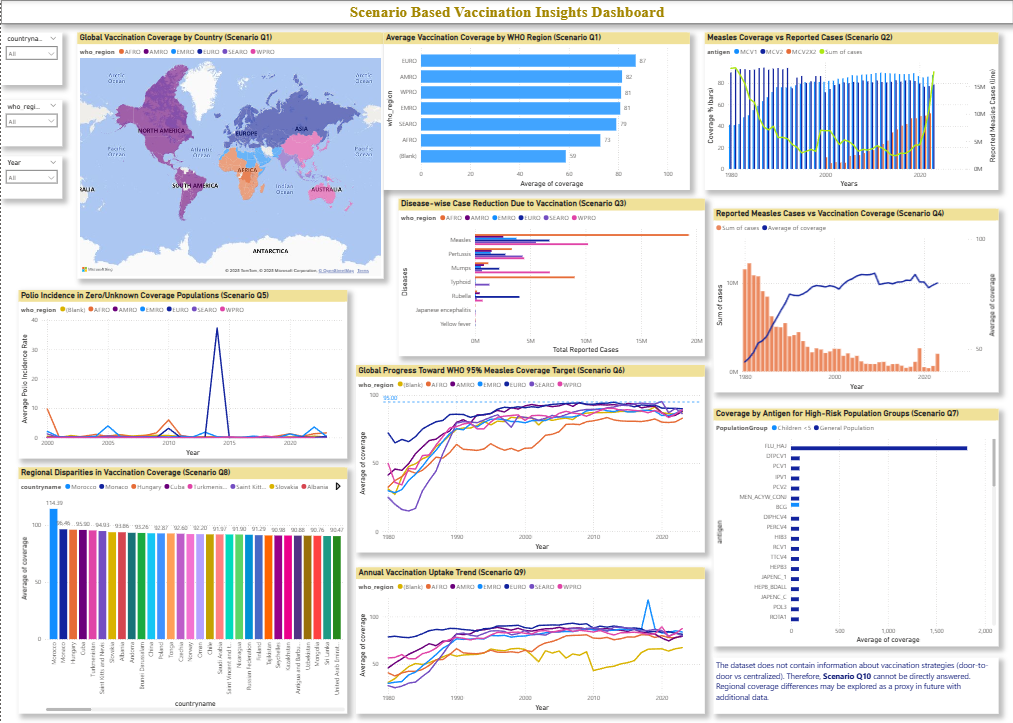

What the dashboard file says about the page in this screenshot:
{"tool":"powerbi","page":{"name":"Page 3","canvas":[2100,1500],"ordinal":2},"visuals":[{"type":"textbox","box":[0,0,2099.2,49.2],"z":0},{"type":"filledMap","title":"Global Vaccination Coverage by Country (Scenario Q1)","fields":{"Category":["DimCountry.countryname"],"Series":["DimCountry.who_region"]},"box":[158.1,67.4,634.9,510.5],"z":1000},{"type":"clusteredBarChart","title":"Average Vaccination Coverage by WHO Region (Scenario Q1)","fields":{"Category":["DimCountry.who_region"],"Y":["vaccination coverage_data.coverage"]},"box":[793,67.4,634.9,326.5],"z":2000},{"type":"slicer","fields":{"Values":["DimCountry.countryname"]},"box":[0,67.4,127,108.8],"z":3000},{"type":"slicer","fields":{"Values":["DimCountry.who_region"]},"box":[0,207.3,127,95.9],"z":4000},{"type":"slicer","fields":{"Values":["DateTable.Year"]},"box":[0,323.9,127,88.1],"z":5000},{"type":"lineClusteredColumnComboChart","title":"Measles Coverage vs Reported Cases (Scenario Q2)","fields":{"Category":["DateTable.Year"],"Y":["vaccination coverage_data.coverage"],"Y2":["vaccination reported_cases_data.cases"],"Series":["vaccination coverage_data.antigen"]},"box":[1459.1,67.4,609,326.5],"z":6000},{"type":"clusteredBarChart","title":"Disease-wise Case Reduction Due to Vaccination (Scenario Q3)","fields":{"Y":["vaccination reported_cases_data.cases"],"Category":["vaccination reported_cases_data.disease_description"],"Series":["DimCountry.who_region"]},"box":[824.1,412.1,634.9,326.5],"z":7000},{"type":"lineClusteredColumnComboChart","title":"Reported Measles Cases vs Vaccination Coverage (Scenario Q4)","fields":{"Category":["DateTable.Year"],"Y":["vaccination reported_cases_data.cases"],"Y2":["vaccination coverage_data.coverage"]},"box":[1477.2,432.8,590.9,381],"z":8000},{"type":"lineChart","title":"Polio Incidence in Zero/Unknown Coverage Populations (Scenario Q5)","fields":{"Category":["DateTable.Year"],"Y":["vaccination incidence_rate_data.incidence_rate"],"Series":["DimCountry.who_region"]},"box":[36.3,601.2,681.6,349.9],"z":9000},{"type":"lineChart","title":"Global Progress Toward WHO 95% Measles Coverage Target (Scenario Q6)","fields":{"Category":["DateTable.Year"],"Y":["vaccination coverage_data.coverage"],"Series":["DimCountry.who_region"]},"box":[736,756.7,723.1,388.7],"z":10000},{"type":"clusteredBarChart","title":"Coverage by Antigen for High-Risk Population Groups (Scenario Q7)","fields":{"Y":["vaccination coverage_data.coverage"],"Category":["vaccination coverage_data.antigen"],"Series":["vaccination coverage_data.PopulationGroup"]},"box":[1477.2,847.4,590.9,492.4],"z":11000},{"type":"columnChart","title":"Regional Disparities in Vaccination Coverage (Scenario Q8)","fields":{"Category":["DimCountry.countryname"],"Y":["vaccination coverage_data.coverage"],"Series":["DimCountry.countryname"]},"box":[36.3,969.3,681.6,510.5],"z":12000},{"type":"lineChart","title":"Annual Vaccination Uptake Trend (Scenario Q9)","fields":{"Category":["DateTable.Year"],"Y":["vaccination coverage_data.coverage"],"Series":["DimCountry.who_region"]},"box":[736,1176.6,723.1,303.2],"z":13000},{"type":"textbox","box":[1477.2,1363.2,590.9,116.6],"z":14000}]}

Visuals, with their boxes in screenshot pixels (x1, y1, x2, y2), scaled from the page's 2100x1500 canvas onto the 1013x723 screenshot:
textbox: (0, 0, 1012, 24)
"Global Vaccination Coverage by Country (Scenario Q1)" filledMap: (76, 32, 383, 279)
"Average Vaccination Coverage by WHO Region (Scenario Q1)" clusteredBarChart: (383, 32, 689, 190)
slicer - DimCountry.countryname: (0, 32, 61, 85)
slicer - DimCountry.who_region: (0, 100, 61, 146)
slicer - DateTable.Year: (0, 156, 61, 199)
"Measles Coverage vs Reported Cases (Scenario Q2)" lineClusteredColumnComboChart: (704, 32, 998, 190)
"Disease-wise Case Reduction Due to Vaccination (Scenario Q3)" clusteredBarChart: (398, 199, 704, 356)
"Reported Measles Cases vs Vaccination Coverage (Scenario Q4)" lineClusteredColumnComboChart: (713, 209, 998, 392)
"Polio Incidence in Zero/Unknown Coverage Populations (Scenario Q5)" lineChart: (18, 290, 346, 458)
"Global Progress Toward WHO 95% Measles Coverage Target (Scenario Q6)" lineChart: (355, 365, 704, 552)
"Coverage by Antigen for High-Risk Population Groups (Scenario Q7)" clusteredBarChart: (713, 408, 998, 646)
"Regional Disparities in Vaccination Coverage (Scenario Q8)" columnChart: (18, 467, 346, 713)
"Annual Vaccination Uptake Trend (Scenario Q9)" lineChart: (355, 567, 704, 713)
textbox: (713, 657, 998, 713)
